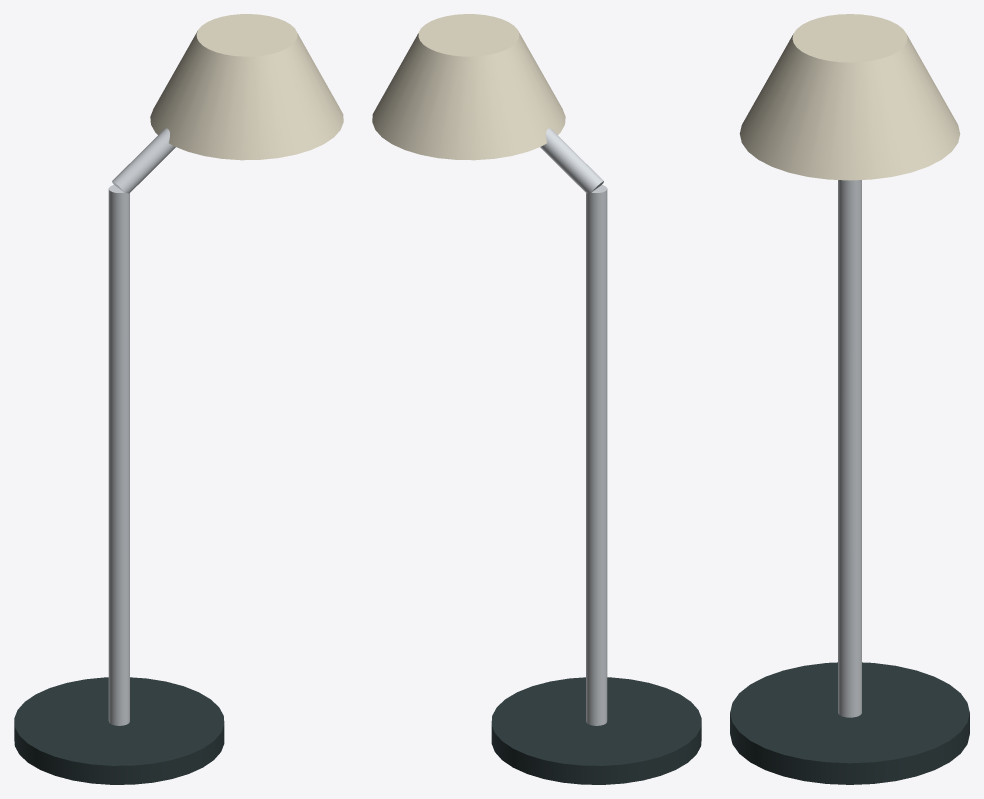
The model's file is floor-lamp.glb.
3 renders of one model, left to right at view 1: azimuth 30°, elevation 25°; view 2: azimuth 150°, elevation 25°; view 3: azimuth 270°, elevation 25°, orthographic. The views are drawn at different scales.
Parts seen in each view (by area): view 1: floor-lamp; view 2: floor-lamp; view 3: floor-lamp.
Part boxes in pixels (x1,y1,x2,y2): floor-lamp: (14, 14, 343, 784); floor-lamp: (372, 14, 701, 784); floor-lamp: (730, 14, 969, 784).
Bounding box in the file's own units: 0.83 × 1.76 × 0.5.
